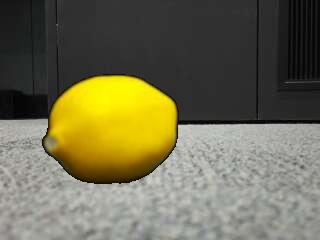lemon: (44, 77, 175, 185)
